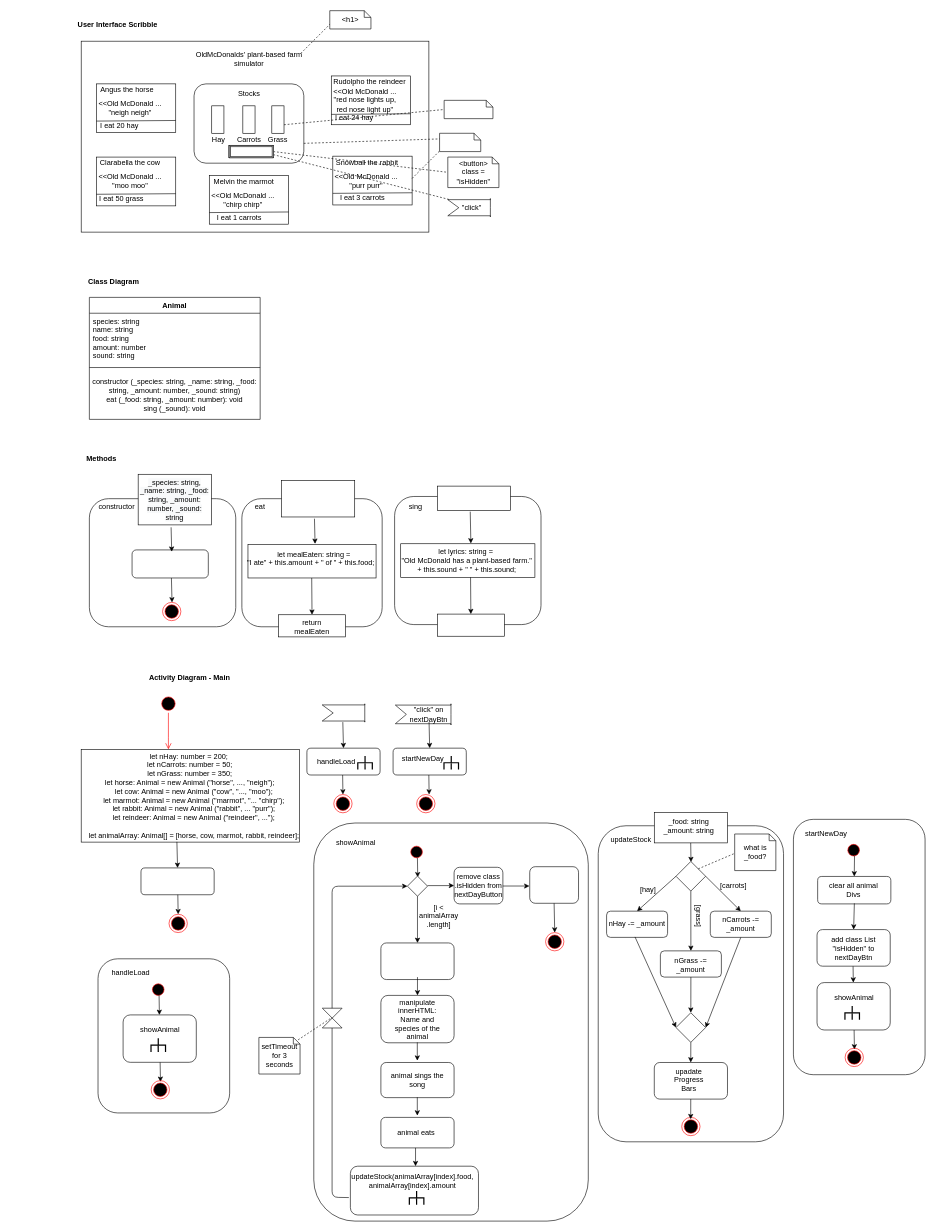
The diagram is 936 pixels wide and 1232 high, and some of its shapes have lost their labels. Each missing label, with the centre of its shape:
"load": point 343,712
<div>: point 460,142
_food: string _amount: number: point 318,498
_sound: string: point 474,498
gain acces to the div of the animal: point 417,961
initialize the parameters: point 169,563
install click-Listener for button: point 554,884
install load-listener: point 177,881
Next Day: point 251,151
progress bar: point 468,109
return lyrics: point 470,624
